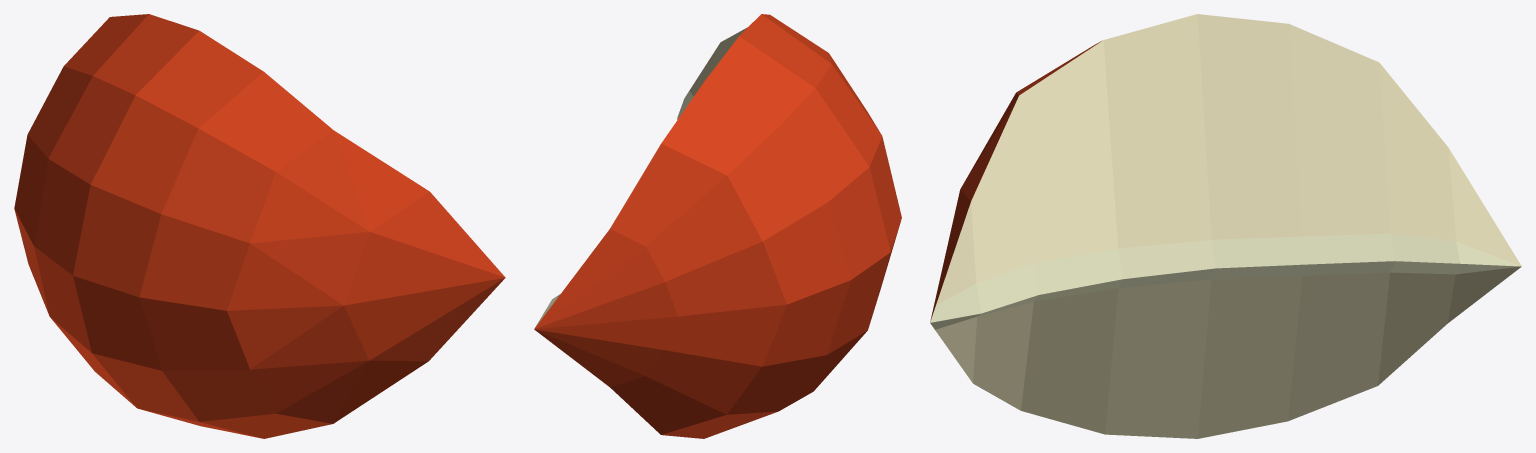
Rendered from Red Apple Slice.fbx.
3 views of the same model, side by side, from view 1: azimuth 30°, elevation 25°; view 2: azimuth 150°, elevation 25°; view 3: azimuth 270°, elevation 25° (orthographic). The views are drawn at different scales.
Visible parts, largest first — view 1: Red Apple Slice; view 2: Red Apple Slice; view 3: Red Apple Slice.
Part boxes in pixels (x1,y1,x2,y2): Red Apple Slice: (14,14,505,438); Red Apple Slice: (534,14,901,438); Red Apple Slice: (930,14,1521,438).
Bounding box in the file's own units: 4.46 × 5.23 × 6.61.
